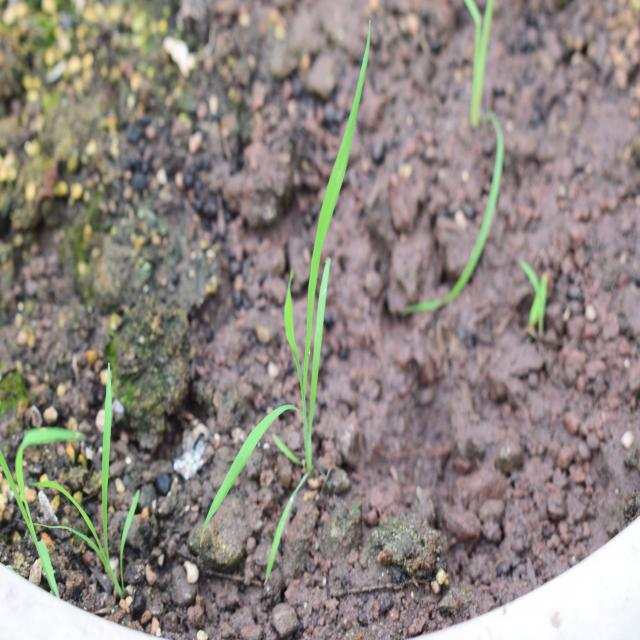barnyard_grass: (190, 60, 395, 542)
